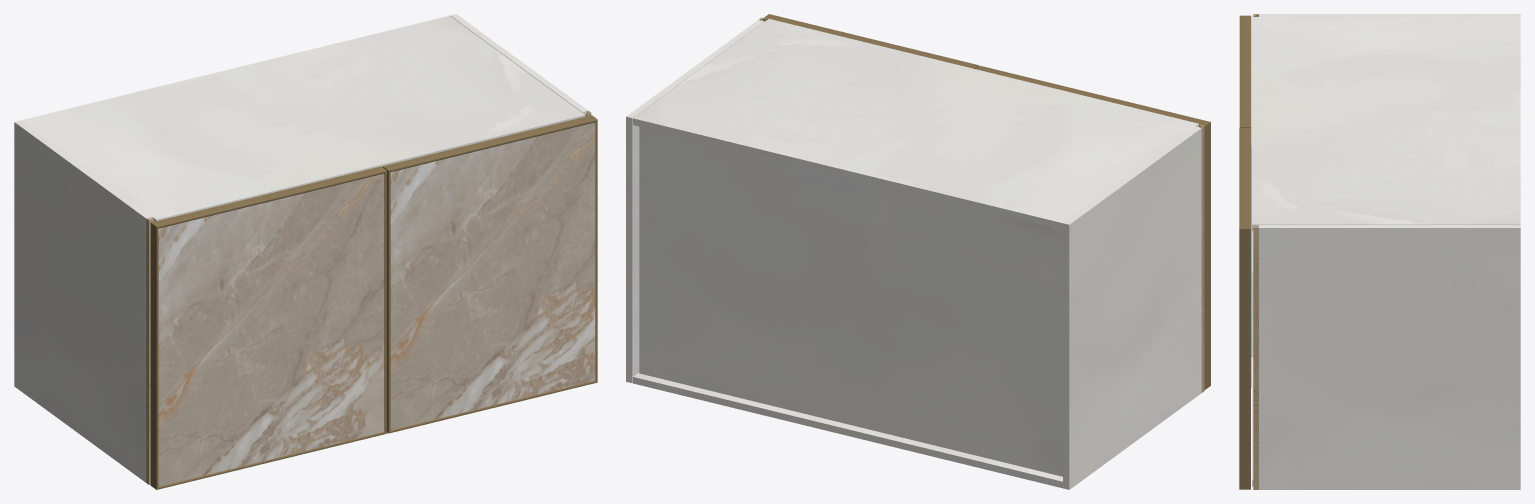
File: LBF-SH-STD-ST-1SX-RHS-XXX-1050-600-560-15.glb
The picture shows the model from 3 angles, left to right: view 1: azimuth 30°, elevation 25°; view 2: azimuth 150°, elevation 25°; view 3: azimuth 270°, elevation 25°; orthographic projection.
Visible parts, largest first — view 1: Object_node_4, TP, Object_node_6, TP_node_0, Extrusion_node_1, Extrusion, Extrusion_node_2, Object_node_8, Extrusion_node_5, TP_node_1, Extrusion_node, Extrusion_node_3 (+2 smaller); view 2: TP_node_2, TP, TP_node_0, TP_node, TP_node_1, Extrusion_node_1, Extrusion, Extrusion_node_2, Object_node_8; view 3: TP_node_1, TP, Extrusion_node_3, Object_node_14, Extrusion, Extrusion_node_2, TP_node_0, TP_node.
Part boxes in pixels (<box>): Object_node_4: <box>158,173,384,486</box>; TP: <box>21,15,585,221</box>; Object_node_6: <box>390,122,595,429</box>; TP_node_0: <box>14,120,152,482</box>; Extrusion_node_1: <box>150,223,158,489</box>; Extrusion: <box>151,166,386,228</box>; Extrusion_node_2: <box>383,115,597,171</box>; Object_node_8: <box>146,218,154,484</box>; Extrusion_node_5: <box>382,166,390,433</box>; TP_node_1: <box>450,14,587,116</box>; Extrusion_node: <box>384,171,386,433</box>; Extrusion_node_3: <box>595,120,597,381</box>; TP_node_2: <box>639,126,1062,476</box>; TP: <box>633,19,1198,229</box>; TP_node_0: <box>1063,126,1201,489</box>; TP_node: <box>633,372,1062,488</box>; TP_node_1: <box>626,20,764,383</box>; Extrusion_node_1: <box>1204,122,1210,389</box>; Extrusion: <box>975,65,1210,125</box>; Extrusion_node_2: <box>764,14,978,68</box>; Object_node_8: <box>1199,124,1204,392</box>; TP_node_1: <box>1259,225,1520,489</box>; TP: <box>1252,17,1520,231</box>; Extrusion_node_3: <box>1239,229,1250,489</box>; Object_node_14: <box>1253,225,1258,489</box>; Extrusion: <box>1239,15,1251,126</box>; Extrusion_node_2: <box>1239,127,1250,228</box>; TP_node_0: <box>1259,14,1520,16</box>; TP_node: <box>1252,272,1253,486</box>.
Size of what is drawn, in the model's own units: 1.05 by 0.6001 by 0.5842.
Materials: 7 (3 with a texture image).
